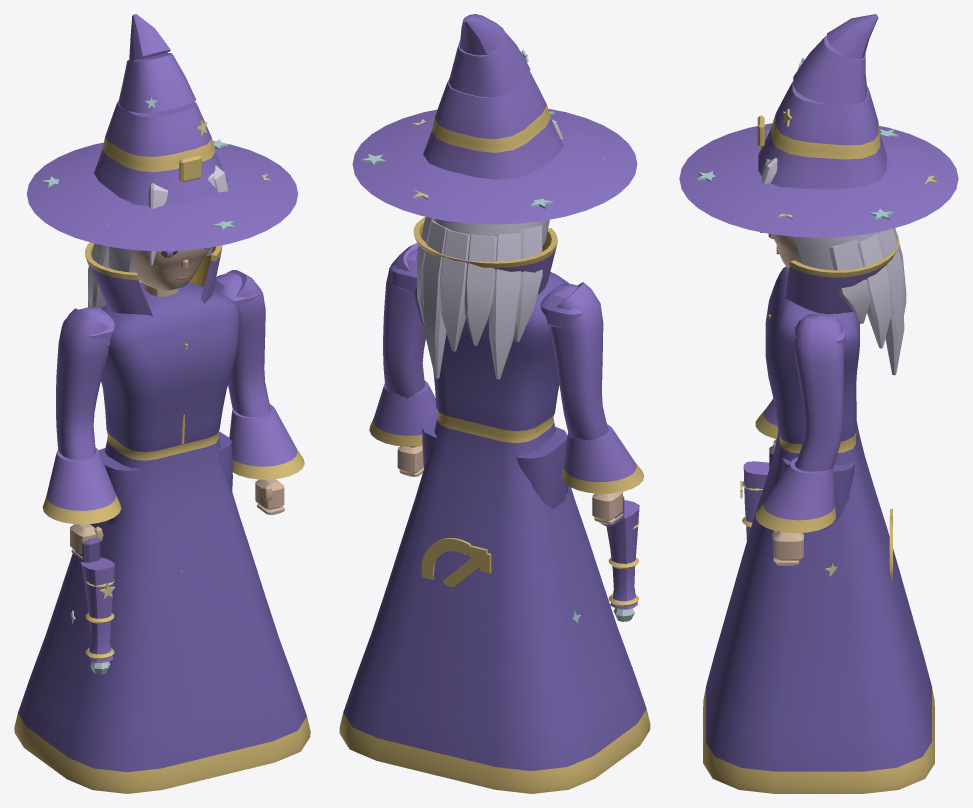
File: jo_magicienne.glb
3 views of the same model, side by side, from view 1: azimuth 30°, elevation 25°; view 2: azimuth 150°, elevation 25°; view 3: azimuth 270°, elevation 25° (orthographic). The views are drawn at different scales.
Parts seen in each view (by area): view 1: torso, coiffe, arm_r, arm_l, coiffe_f1, gun, col, head, hair, leg_r, coiffe_f2, leg_l (+1 smaller); view 2: torso, coiffe, hair, arm_r, arm_l, coiffe_f1, gun, leg_r, col, coiffe_f2; view 3: torso, coiffe, arm_l, hair, coiffe_f1, col, coiffe_f2, gun, leg_l, coiffe_glow, head, arm_r.
Part boxes in pixels (bbox=[...]): torso: bbox=[14, 282, 310, 793]; coiffe: bbox=[27, 101, 297, 251]; arm_r: bbox=[42, 306, 121, 559]; arm_l: bbox=[213, 270, 304, 514]; coiffe_f1: bbox=[118, 53, 196, 113]; gun: bbox=[75, 537, 114, 662]; col: bbox=[85, 242, 222, 316]; head: bbox=[133, 247, 209, 296]; hair: bbox=[88, 165, 228, 308]; leg_r: bbox=[99, 448, 142, 524]; coiffe_f2: bbox=[129, 14, 170, 61]; leg_l: bbox=[217, 431, 232, 491]; torso: bbox=[339, 272, 650, 793]; coiffe: bbox=[352, 71, 637, 224]; hair: bbox=[416, 119, 563, 379]; arm_r: bbox=[540, 282, 644, 524]; arm_l: bbox=[369, 243, 436, 476]; coiffe_f1: bbox=[448, 30, 530, 97]; gun: bbox=[600, 496, 639, 609]; leg_r: bbox=[516, 426, 568, 509]; col: bbox=[413, 217, 557, 294]; coiffe_f2: bbox=[460, 14, 503, 55]; torso: bbox=[703, 266, 934, 793]; coiffe: bbox=[679, 81, 958, 237]; arm_l: bbox=[755, 314, 845, 565]; hair: bbox=[760, 129, 906, 375]; coiffe_f1: bbox=[793, 35, 867, 105]; col: bbox=[785, 234, 899, 314]; coiffe_f2: bbox=[827, 14, 878, 59]; gun: bbox=[742, 446, 773, 557]; leg_l: bbox=[782, 458, 854, 528]; coiffe_glow: bbox=[697, 58, 937, 220]; head: bbox=[768, 234, 802, 268]; arm_r: bbox=[755, 399, 778, 454].
Bounding box in the file's own units: 0.516 × 1.43 × 0.482.
